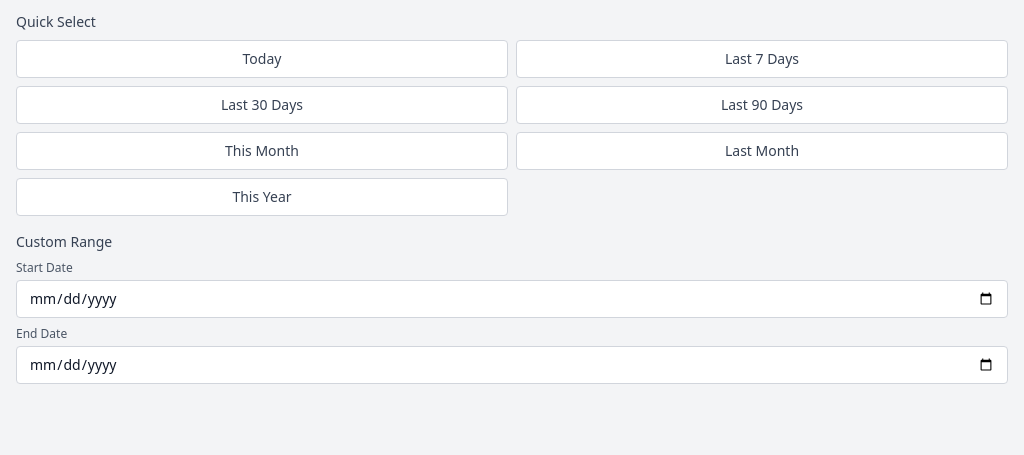
it: DateRangeFilter › Custom Date Input Interactions › should show Custom indicator when end date is set
The image size is (1024, 455).
Type "2024-01-31" into the date field labelled "End Date" at coordinates (512, 365), box left=16, top=346, right=1008, bottom=384
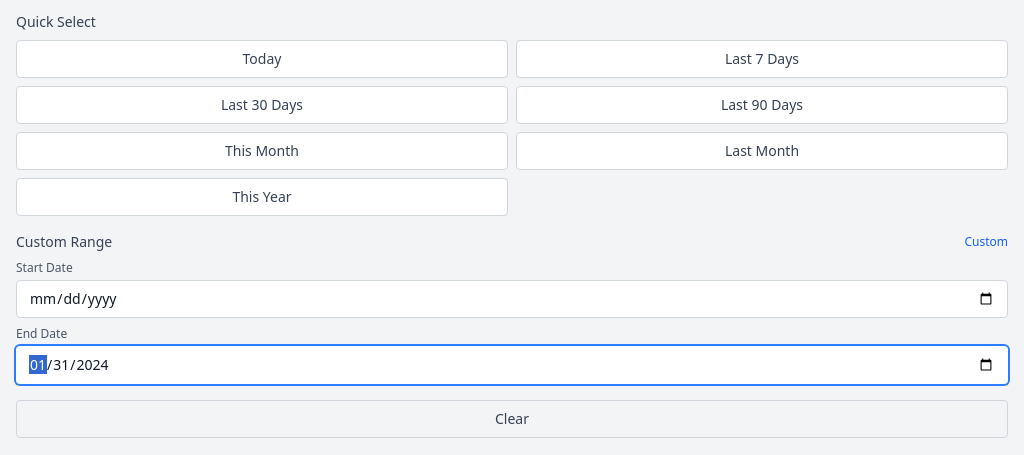
Now the text "Custom" is shown, box left=964, top=234, right=1008, bottom=250
